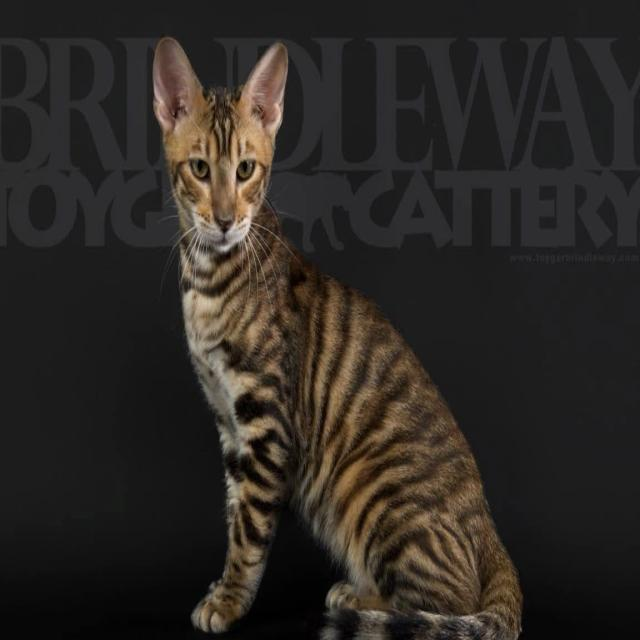Toyger: (148, 28, 526, 640)
